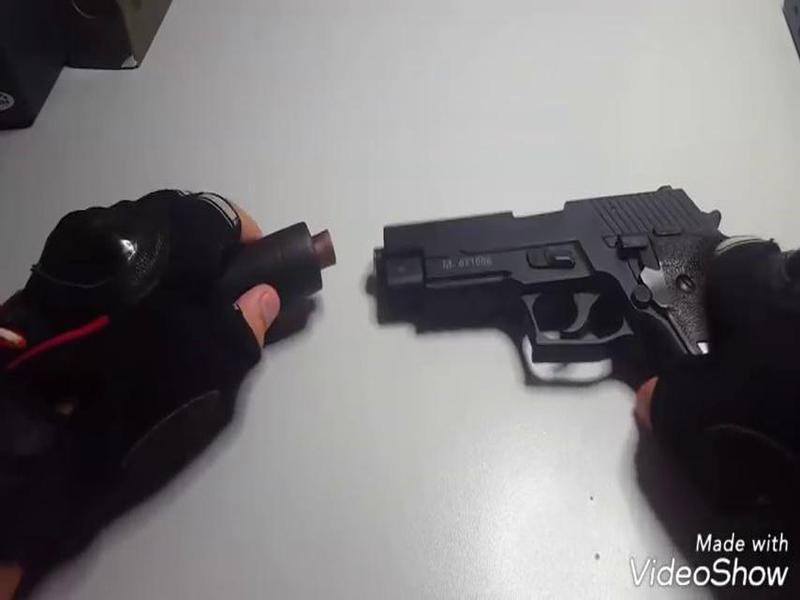Pistola: (362, 161, 751, 407)
